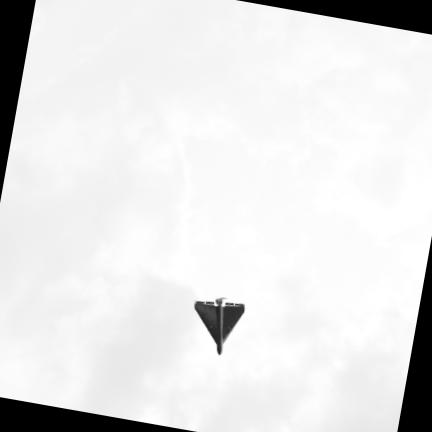Shahed: (195, 298, 243, 353)
